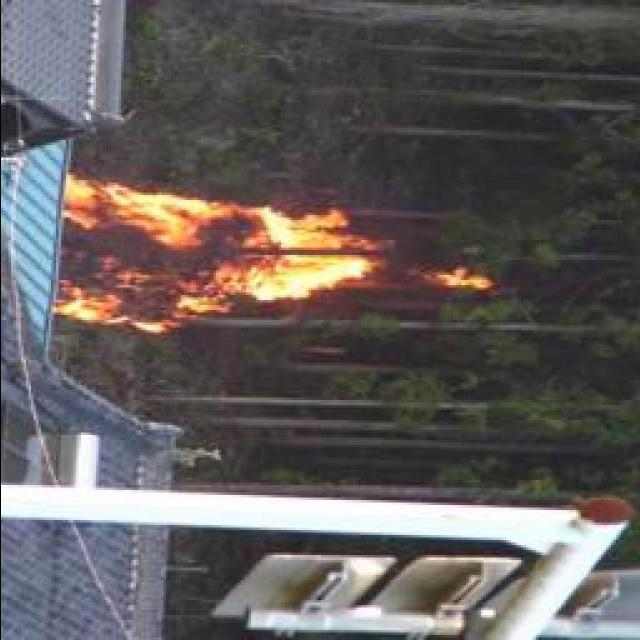Fire: (58, 177, 394, 333)
